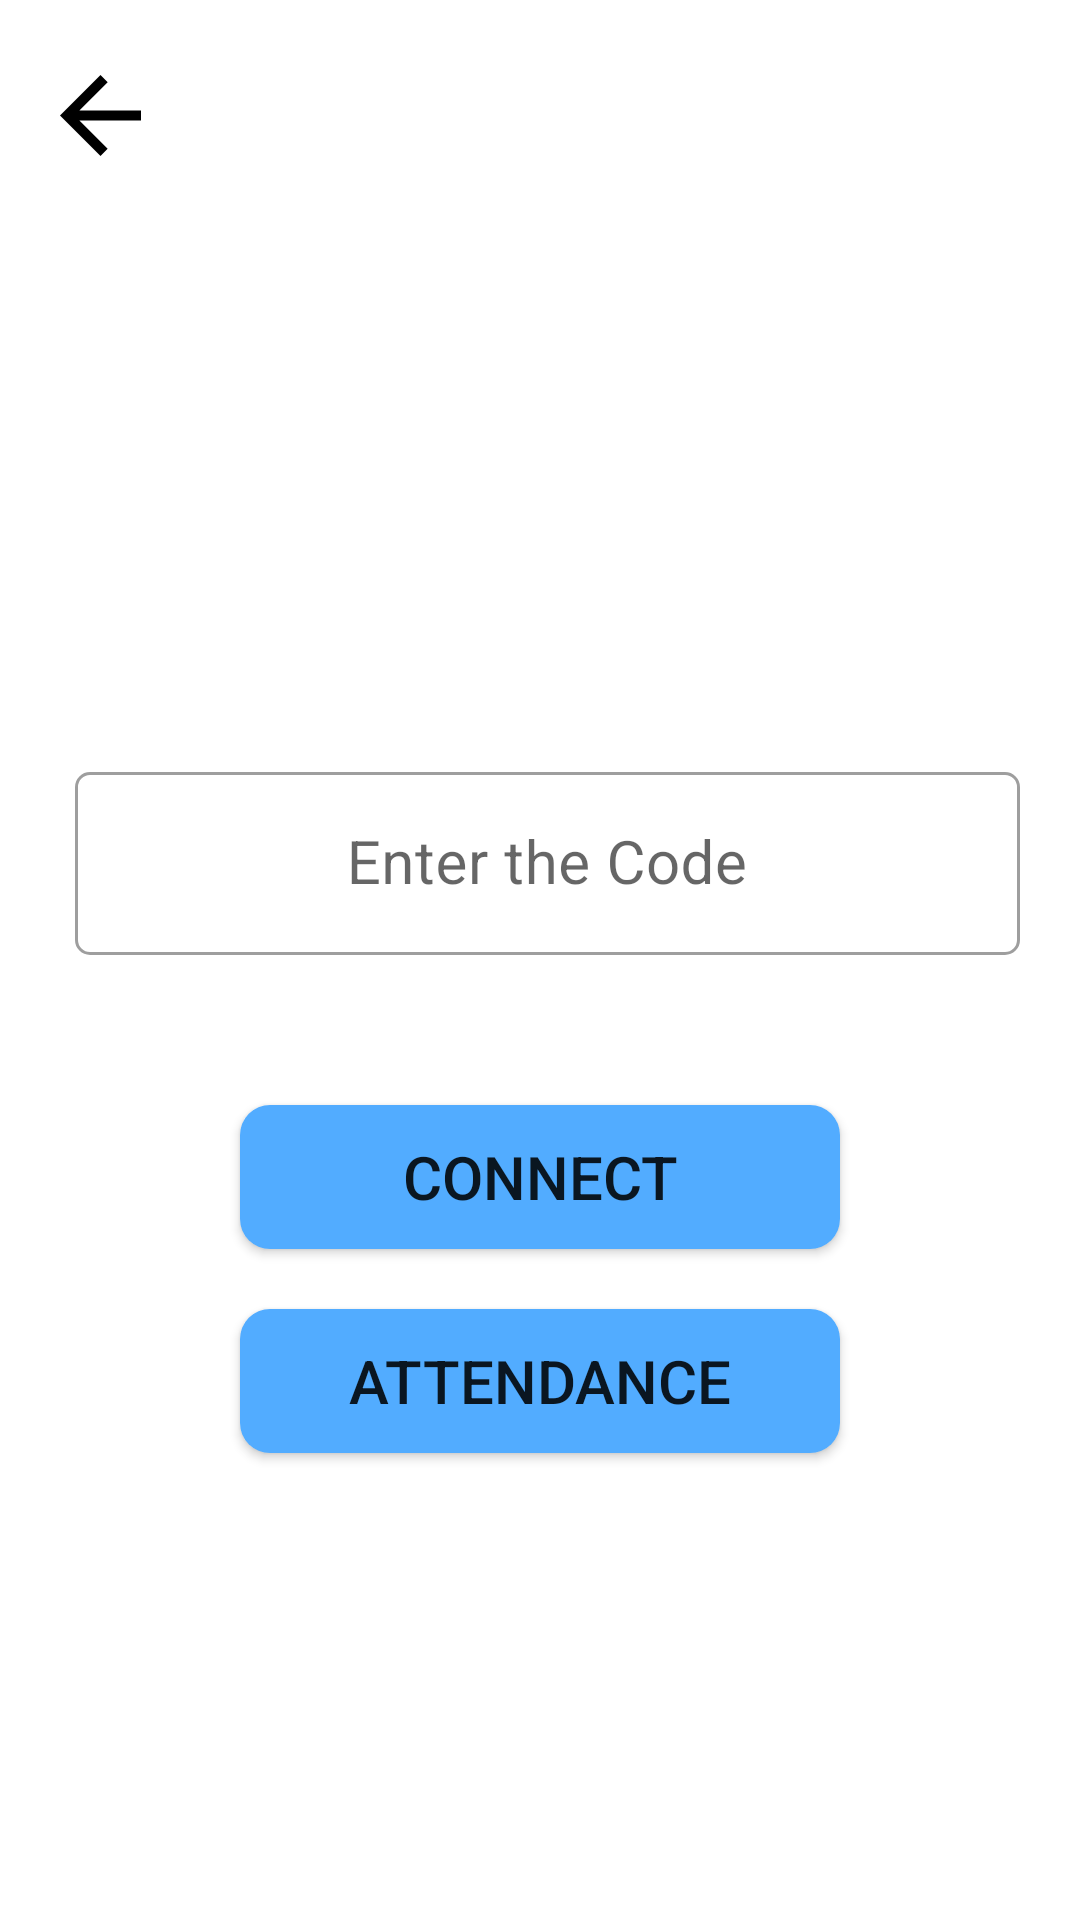

Icon click points for this 1080*1920 phone screenshot, format (x,y):
back: (100,115)
